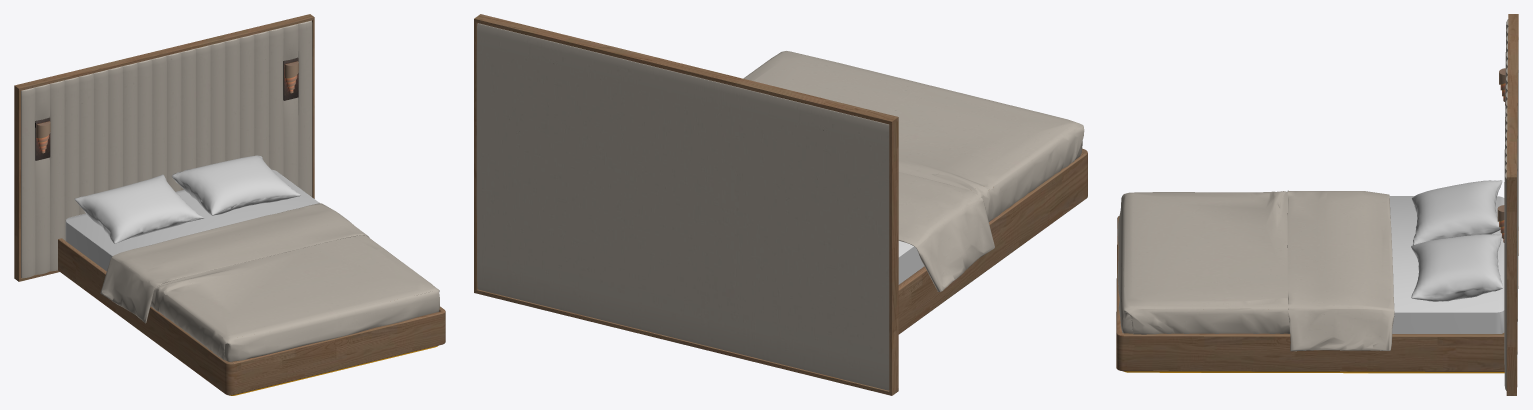
Rendered from bed-14.glb.
The picture shows the model from 3 angles, left to right: view 1: azimuth 30°, elevation 25°; view 2: azimuth 150°, elevation 25°; view 3: azimuth 270°, elevation 25°; orthographic projection. The views are drawn at different scales.
Visible parts, largest first — view 1: Object_7, Object_6, Object_2, Object_8, Object_3, Object_4; view 2: Object_7, Object_6, Object_2, Object_8; view 3: Object_6, Object_2, Object_8, Object_7, Object_5, Object_4.
Part boxes in pixels (left/top/right/bottom): Object_7: left=21, top=20, right=312, bottom=278; Object_6: left=100, top=203, right=439, bottom=361; Object_2: left=14, top=14, right=445, bottom=395; Object_8: left=65, top=155, right=319, bottom=271; Object_3: left=35, top=57, right=298, bottom=160; Object_4: left=36, top=61, right=298, bottom=153; Object_7: left=476, top=23, right=889, bottom=390; Object_6: left=743, top=51, right=1084, bottom=291; Object_2: left=474, top=14, right=1087, bottom=395; Object_8: left=898, top=241, right=924, bottom=284; Object_6: left=1117, top=190, right=1394, bottom=351; Object_2: left=1116, top=14, right=1518, bottom=395; Object_8: left=1389, top=180, right=1504, bottom=333; Object_7: left=1504, top=19, right=1518, bottom=390; Object_5: left=1123, top=371, right=1504, bottom=373; Object_4: left=1497, top=68, right=1505, bottom=242.
Size of the model in its own units: 15.69 by 9.84 by 16.35.
Materials: 6 (4 with a texture image).
